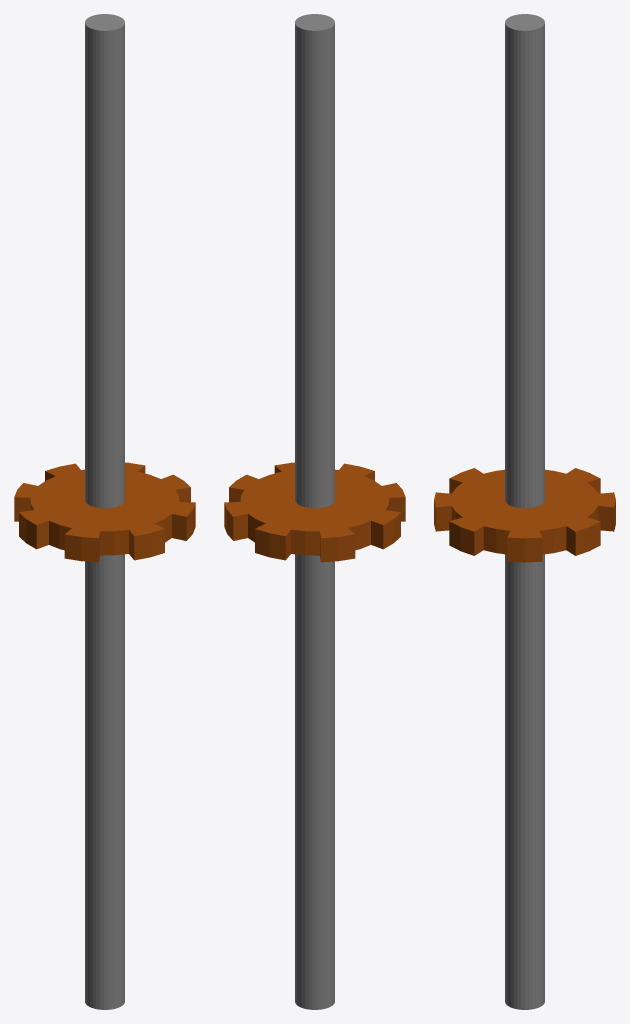
Rendered from poledgear.fbx.
The picture shows the model from 3 angles, left to right: view 1: azimuth 30°, elevation 25°; view 2: azimuth 150°, elevation 25°; view 3: azimuth 270°, elevation 25°; orthographic projection.
Parts seen in each view (by area): view 1: Cylinder, Gear; view 2: Cylinder, Gear; view 3: Cylinder, Gear.
Part boxes in pixels (x1,y1,x2,y2): Cylinder: (85, 14, 124, 1009); Gear: (14, 462, 195, 562); Cylinder: (295, 14, 334, 1009); Gear: (224, 462, 405, 562); Cylinder: (505, 14, 544, 1009); Gear: (434, 468, 615, 562).
Bounding box in the file's own units: 300 × 1781 × 300.
